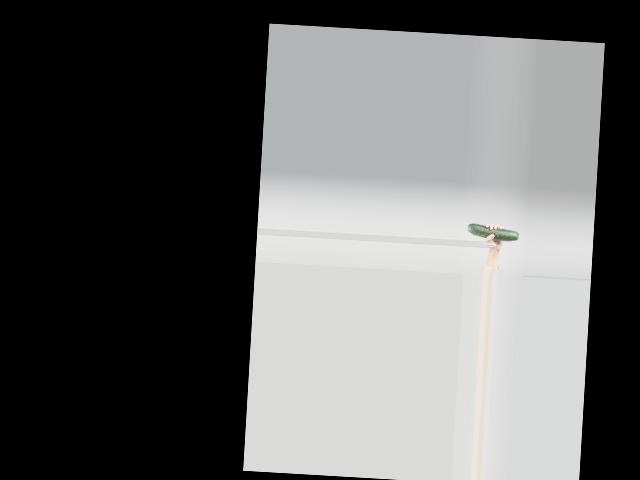cucumber: (466, 223, 518, 241)
